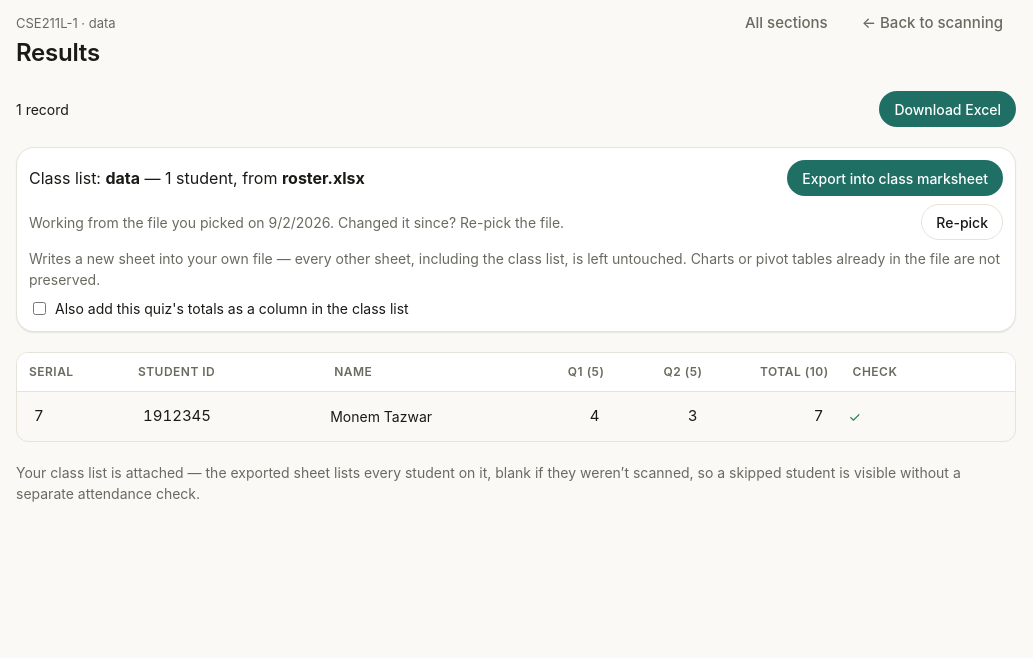
Results — class-list workbook export (12.5-12.8) › never offers Overwrite when the collision is with the class-list sheet itself
What coordinates should you click on to do the following:
click the button "Export into class marksheet"
I would click on:
 (895, 178)
Its box is [787, 160, 1003, 196].
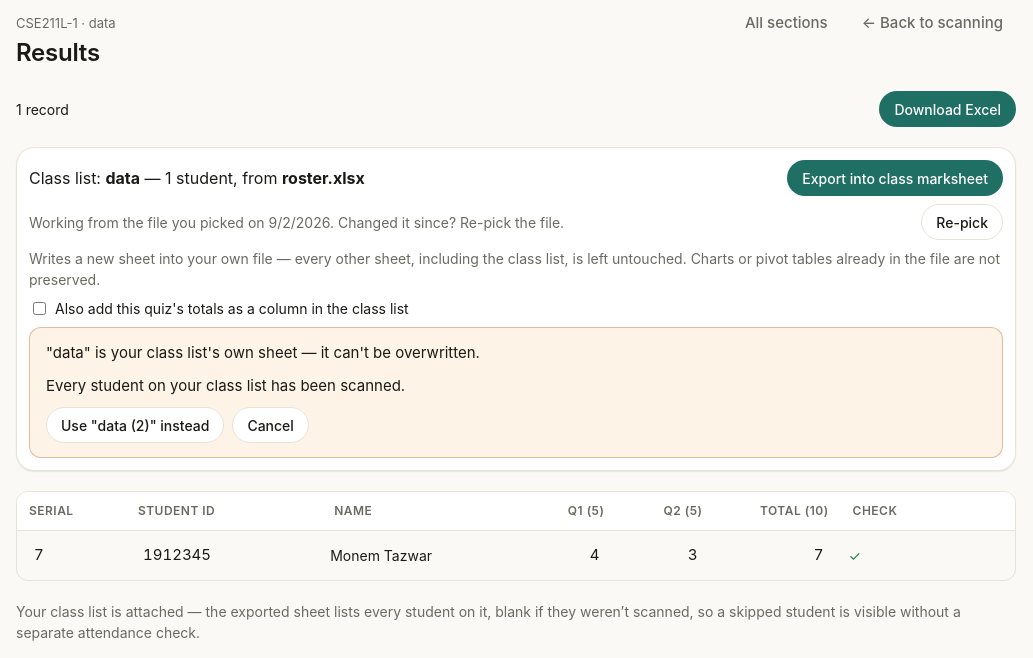
Expected: the text "is your class list's own sheet" is shown, [46, 343, 480, 362]
Expected: the button "Use \"data (2)\" instead" is shown, [46, 407, 224, 443]
